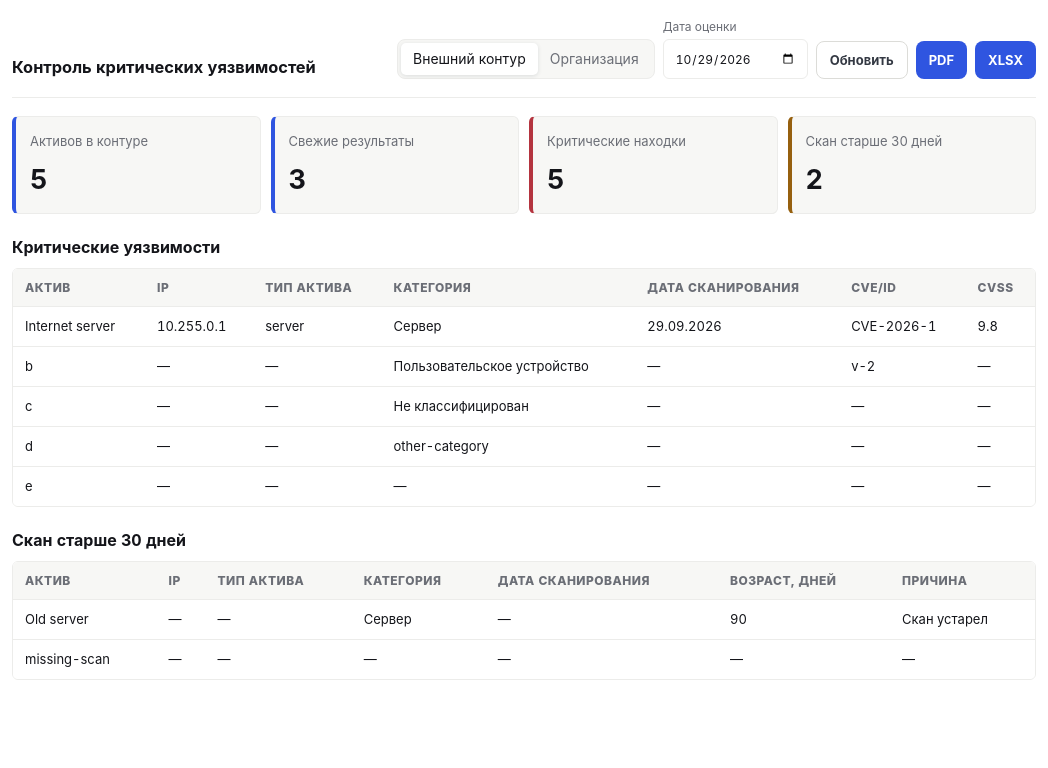
Test case: compliance dashboard and report downloads › downloads pdf with the chosen assessment and prevents duplicate clicks
This screenshot has width=1048, height=768.
Expected: the text "Internet server" is shown, top-left (13, 307), bottom-right (145, 347)
Type "2026-09-15" into the date field labelled "Дата оценки".
click(735, 59); type("2026-09-15")  # box top-left (663, 39), bottom-right (808, 79)
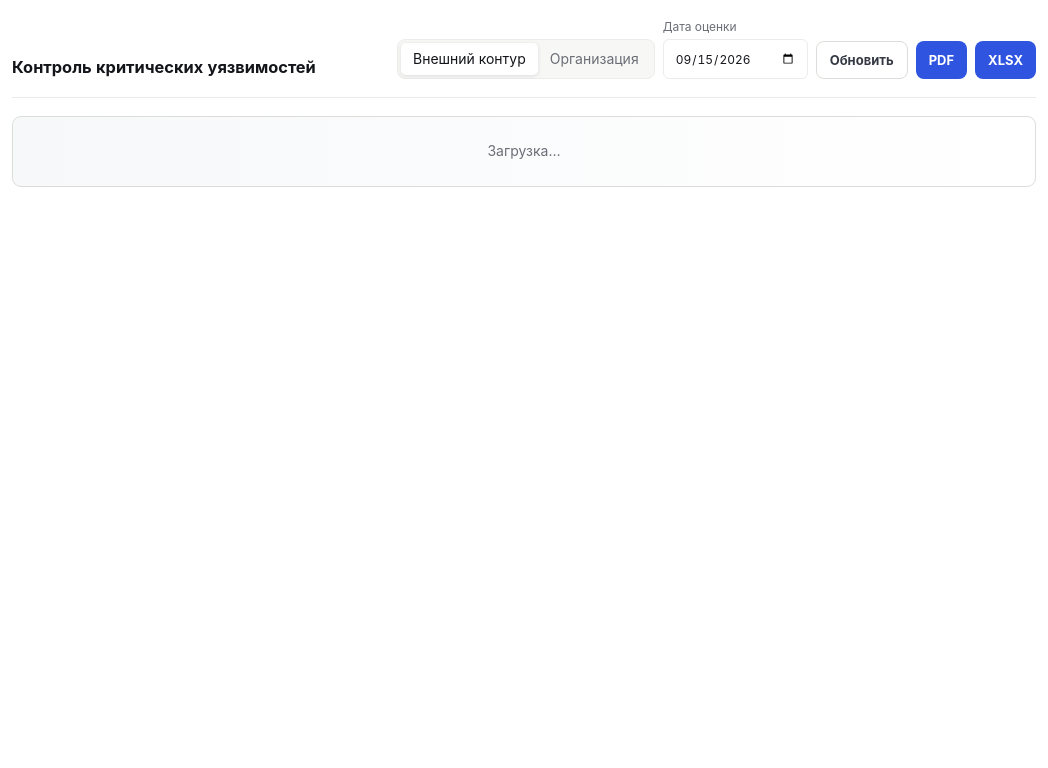
Click the button "Организация".
click(594, 59)  # box top-left (538, 43), bottom-right (651, 75)
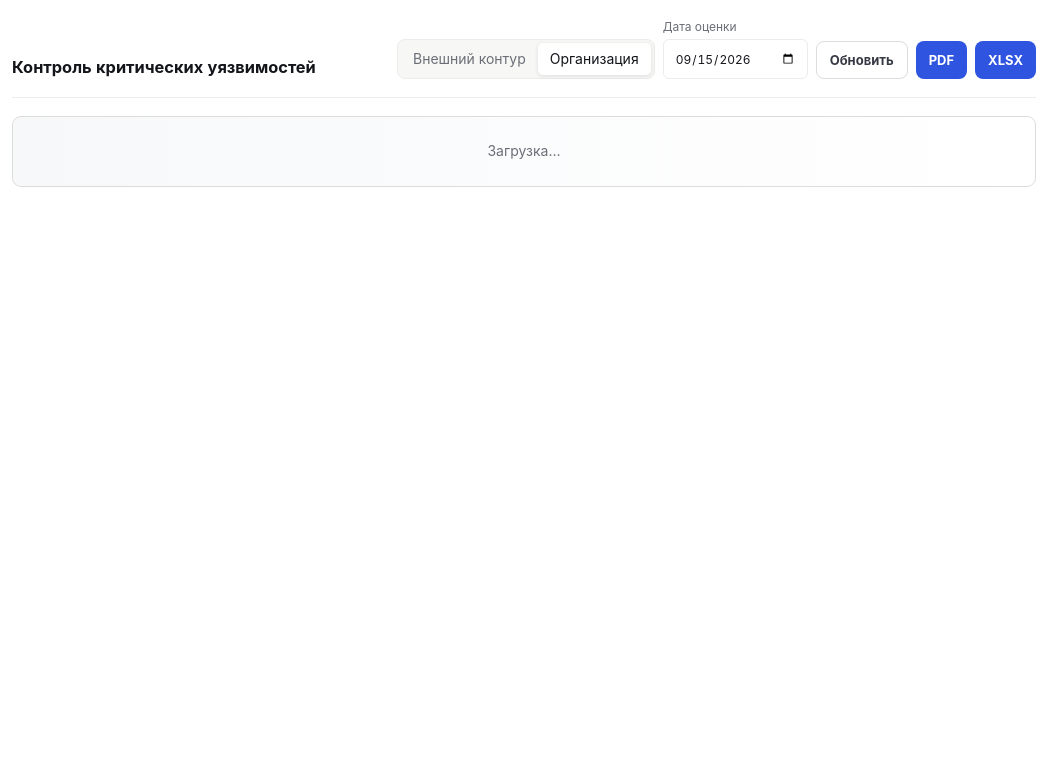
Click the button "PDF".
click(941, 60)  # box top-left (916, 41), bottom-right (967, 79)
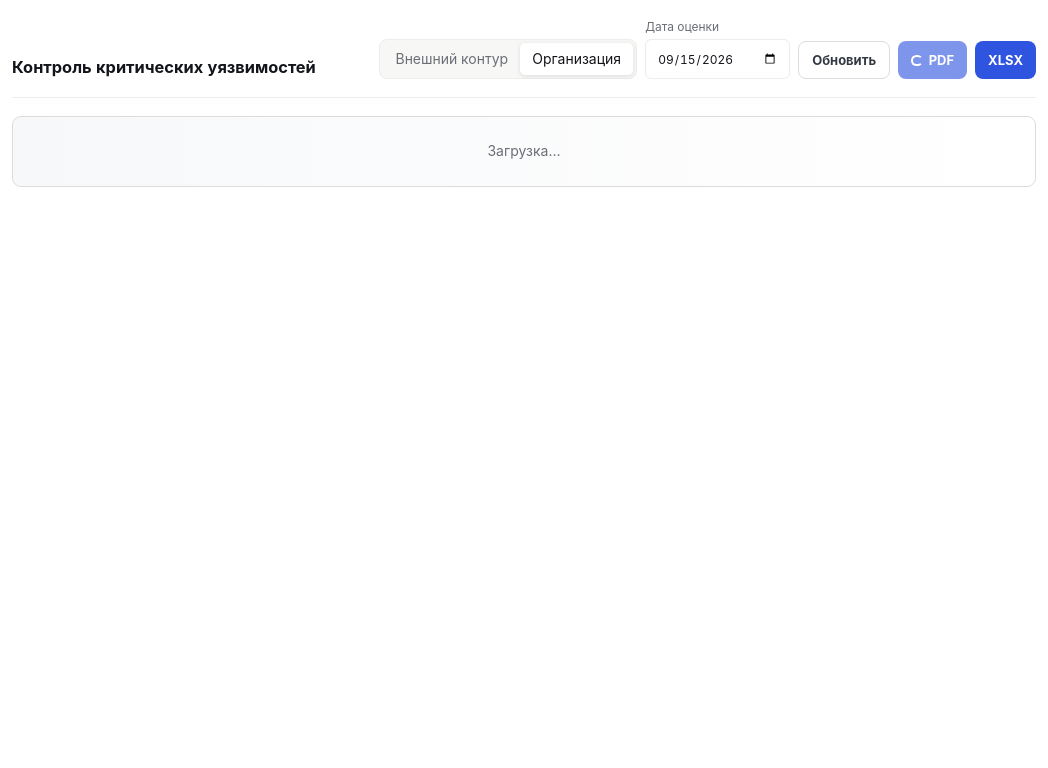
Expected: the button "PDF" is disabled
Click the button "PDF".
click(933, 60)  # box top-left (898, 41), bottom-right (967, 79)
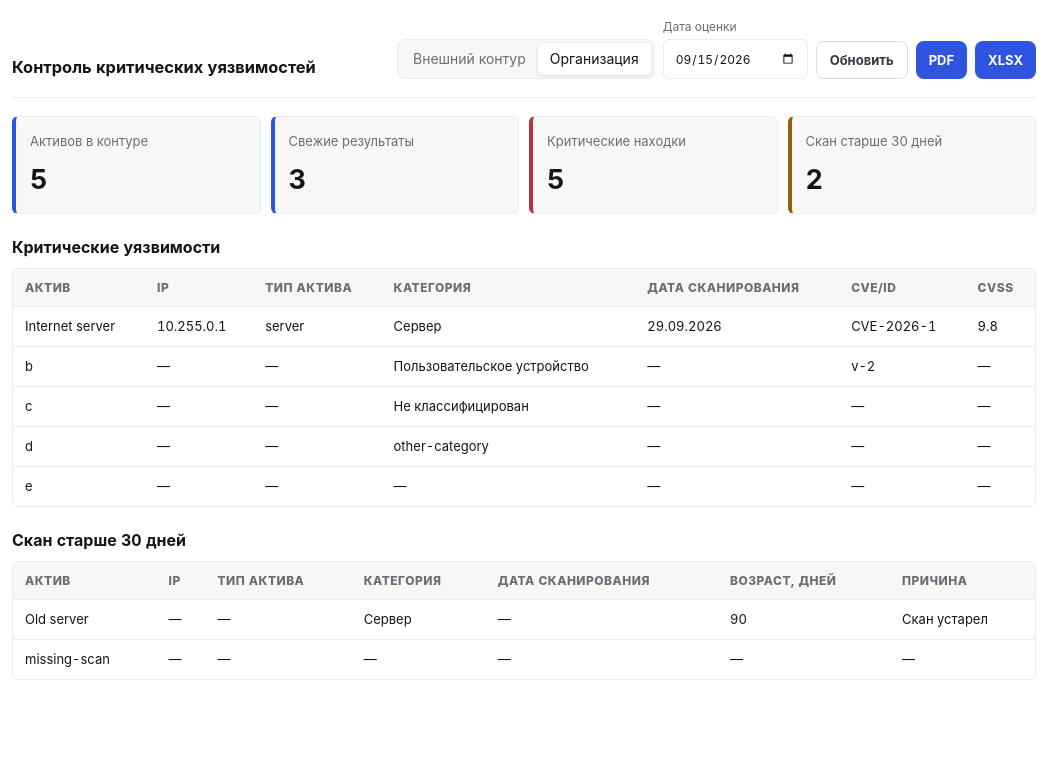
Expected: the button "PDF" is enabled, top-left (916, 41), bottom-right (967, 79)
